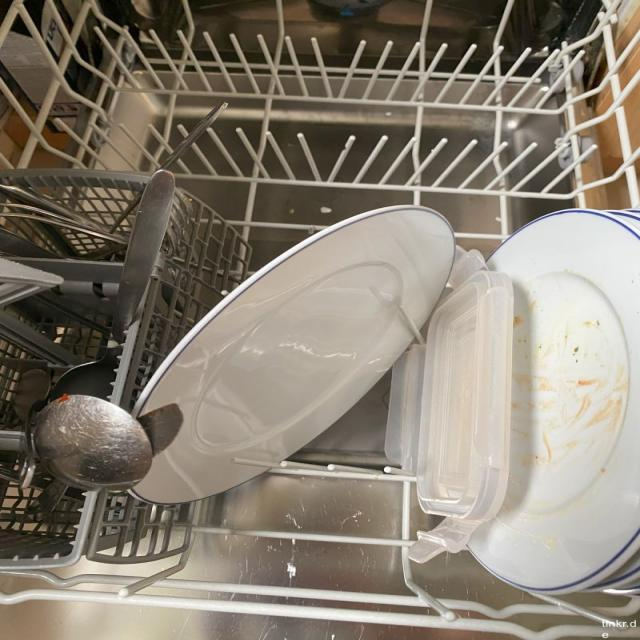clutery_bin: (0, 176, 149, 587)
empty_slot: (78, 2, 632, 193)
